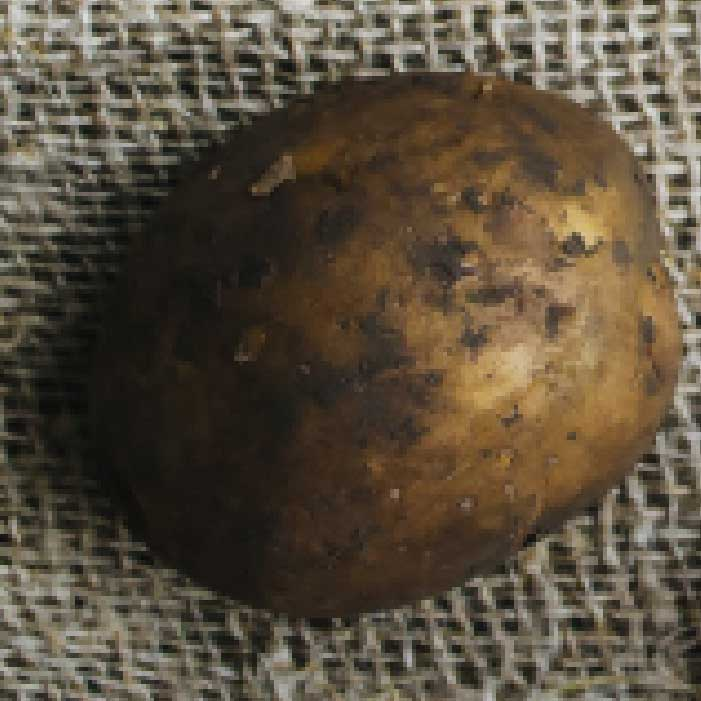Kartoffel: (98, 74, 682, 616)
